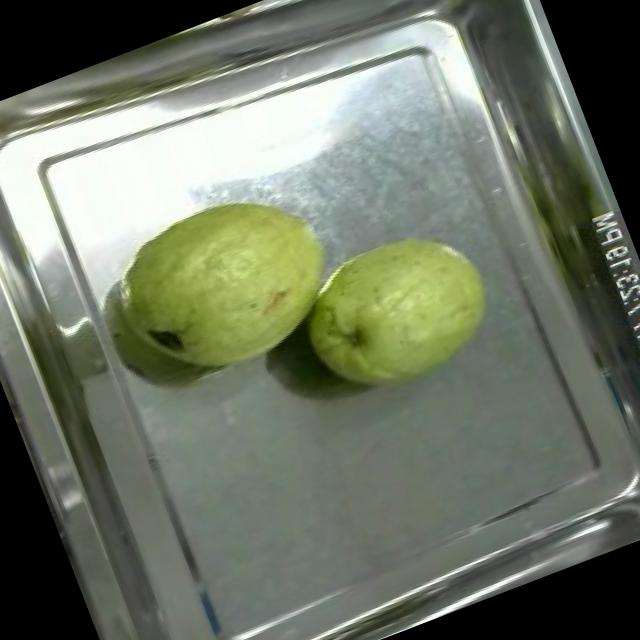Fruit: (79, 160, 366, 416), (273, 200, 520, 422)
